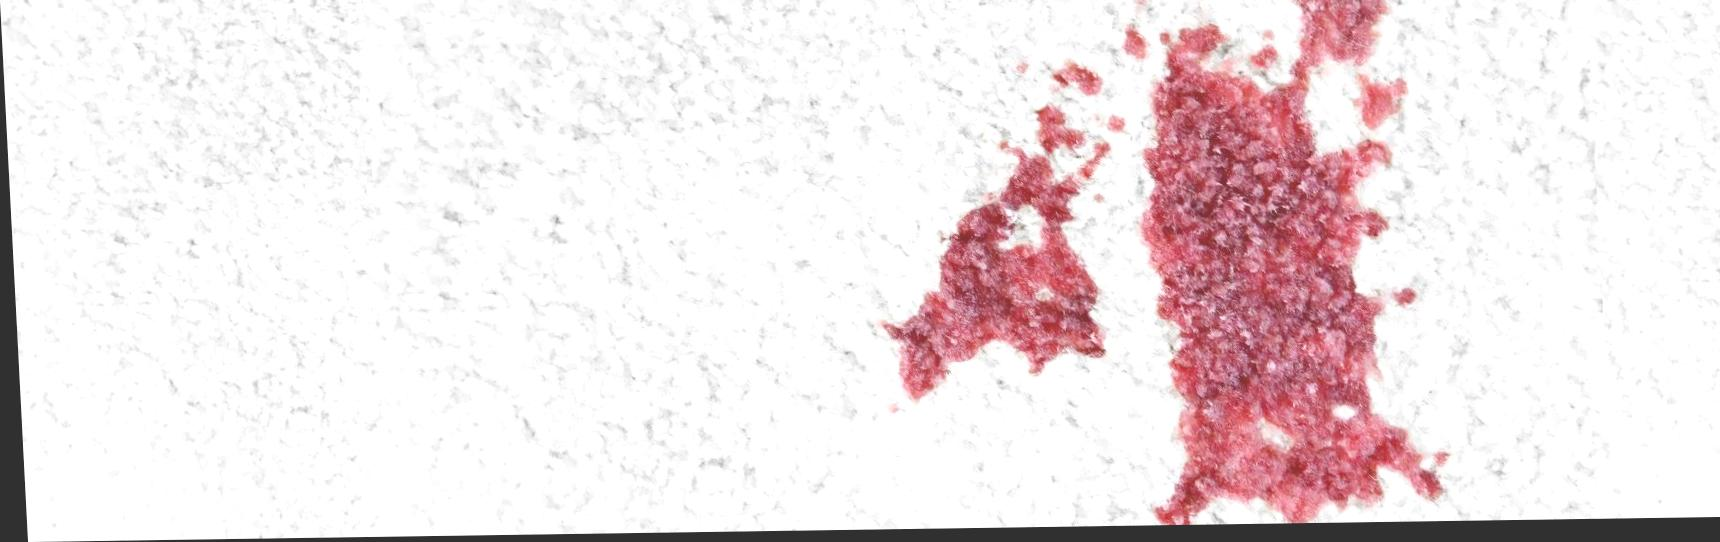Fire: (1136, 0, 1439, 529), (873, 105, 1109, 406), (1351, 77, 1408, 134), (1050, 64, 1101, 100), (1121, 25, 1150, 64), (1247, 46, 1277, 75), (1388, 291, 1415, 313)
